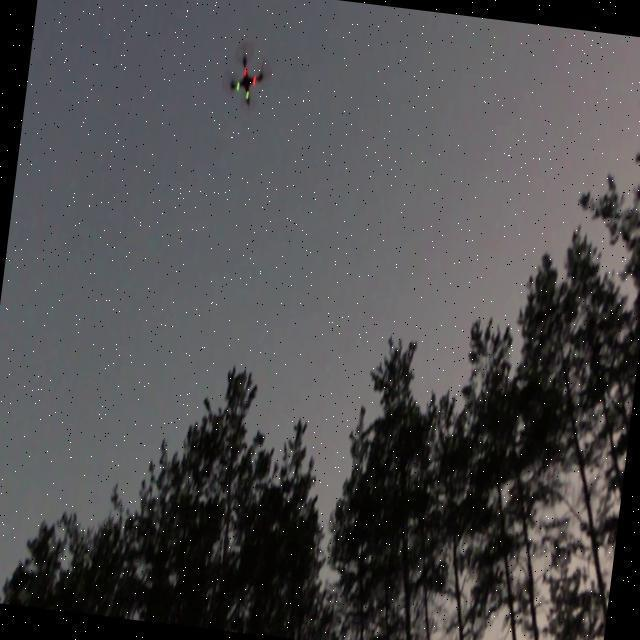Drons: (216, 36, 276, 116)
